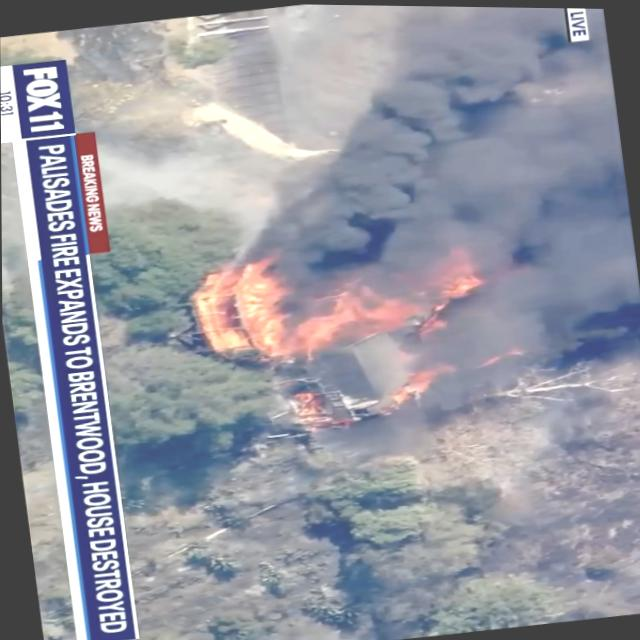Smoke: (290, 34, 631, 271), (432, 137, 640, 366)
